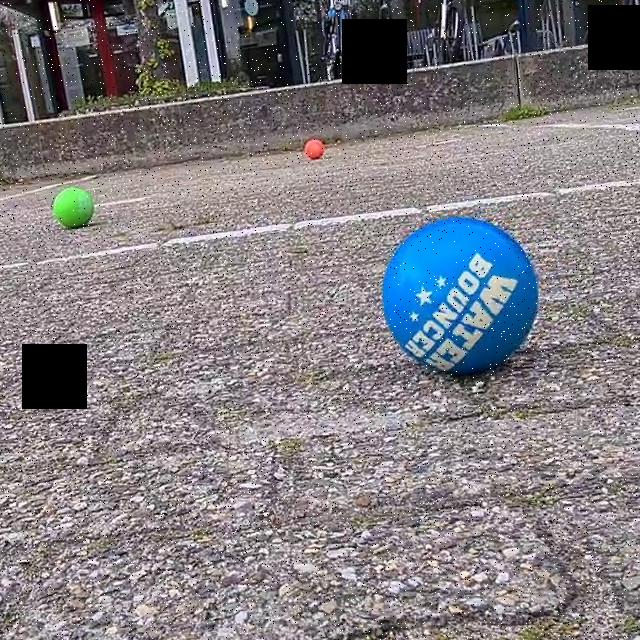ball: (50, 184, 94, 230), (302, 134, 326, 158)
